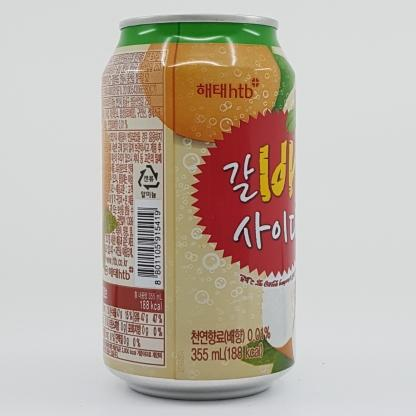-------355ML: (100, 14, 297, 401)
